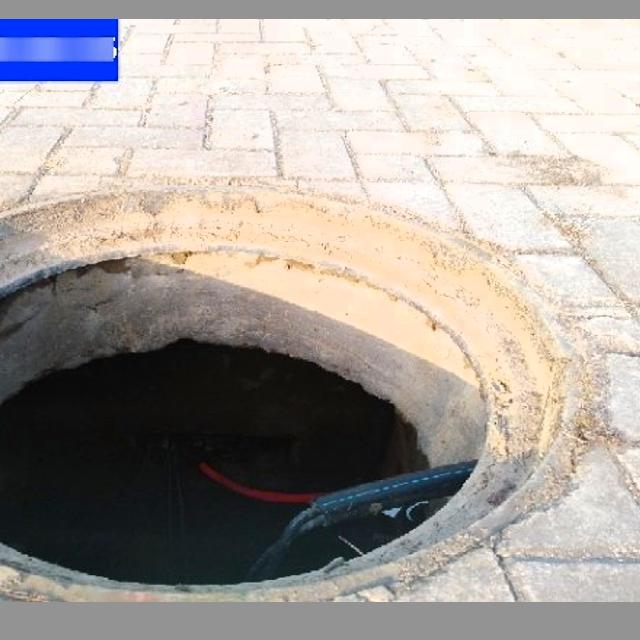lose: (0, 181, 577, 602)
